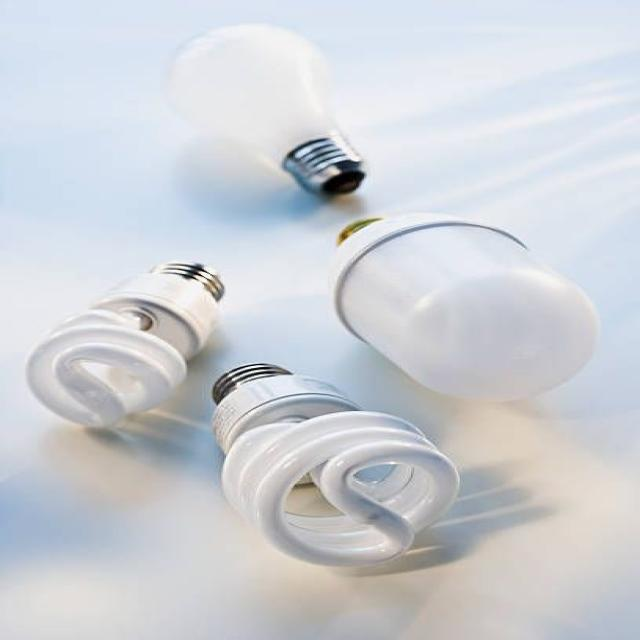electronic: (328, 210, 599, 403), (208, 362, 460, 568), (163, 21, 367, 198), (23, 258, 225, 430)
